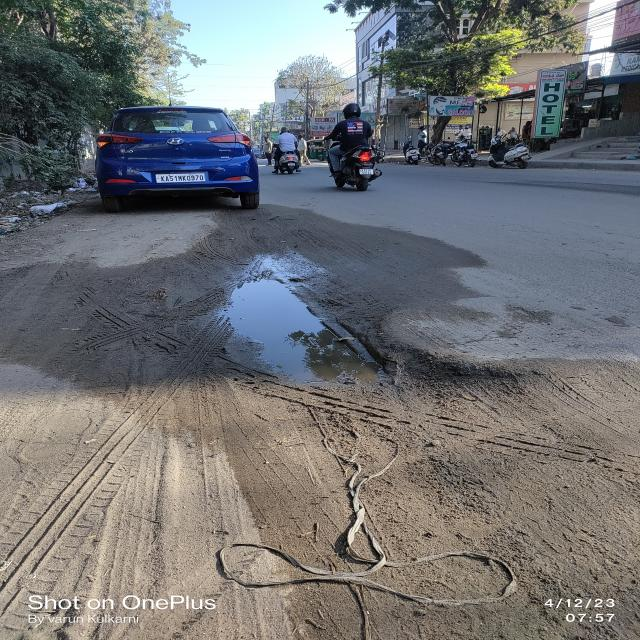potholes: (205, 246, 433, 394)
